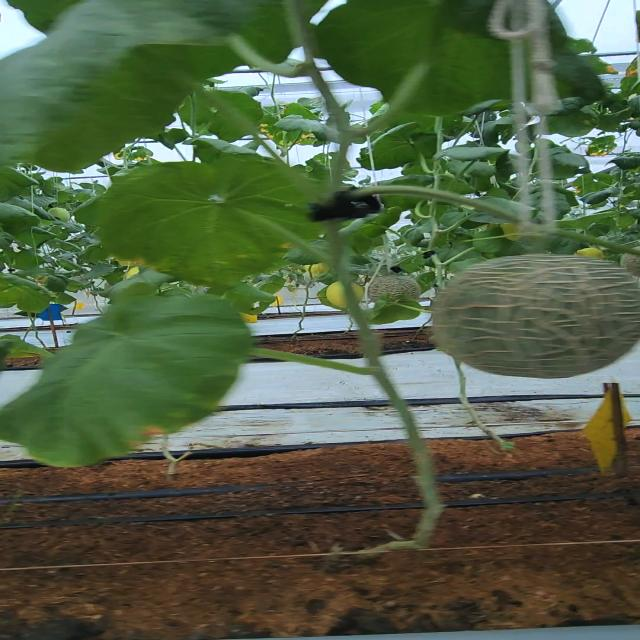Melon: (419, 247, 640, 380)
